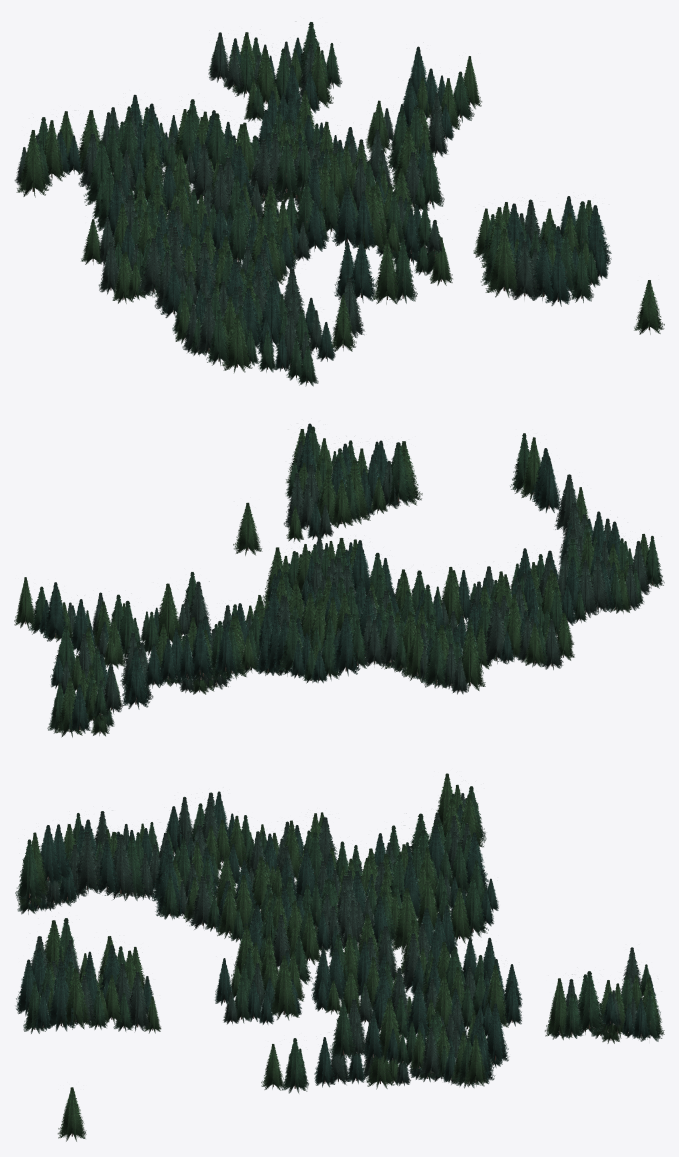
Rendered from pines_0_1.glb.
3 renders of one model, top to bottom at view 1: azimuth 30°, elevation 25°; view 2: azimuth 150°, elevation 25°; view 3: azimuth 270°, elevation 25°, orthographic. The views are drawn at different scales.
Visible parts, largest first — view 1: f; view 2: f; view 3: f.
Part boxes in pixels (x1,y1,x2,y2): f: (14,22,664,386); f: (14,423,664,737); f: (15,773,664,1141).
Bounding box in the file's own units: 108 × 37.71 × 130.
1 material, 1 textured.
